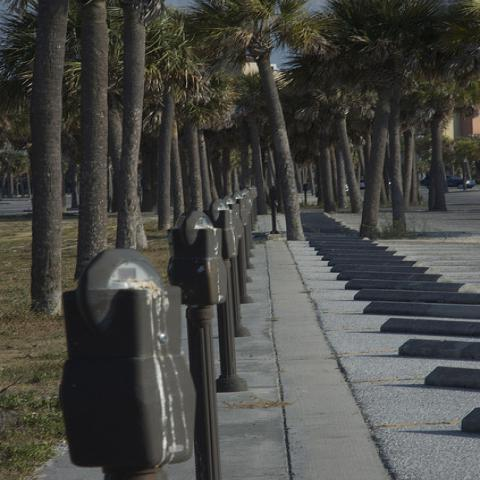car: (420, 175, 476, 189)
